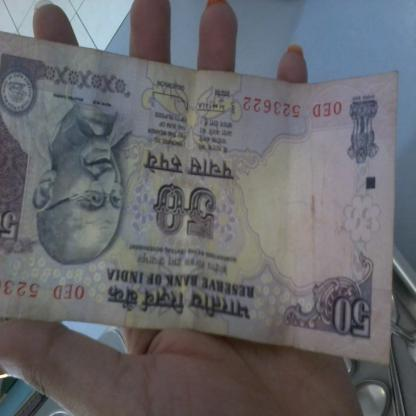Old50Front: (0, 30, 398, 364)
